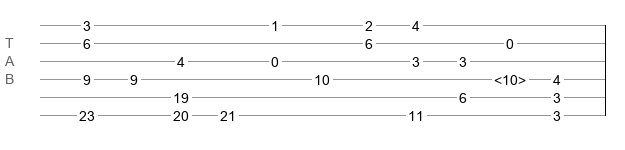0: (271, 54, 279, 64), (506, 36, 514, 46)
1: (271, 18, 279, 28)
10: (314, 72, 330, 82)
11: (408, 108, 424, 118)
19: (173, 90, 189, 100)
2: (365, 18, 373, 28)
20: (173, 108, 189, 118)
21: (220, 108, 236, 118)
23: (79, 108, 95, 118)
3: (83, 18, 91, 28), (412, 54, 420, 64), (459, 54, 467, 64), (553, 108, 561, 118), (553, 90, 561, 100)
4: (177, 54, 185, 64), (412, 18, 420, 28), (553, 72, 561, 82)
6: (83, 36, 91, 46), (365, 36, 373, 46), (459, 90, 467, 100)
9: (83, 72, 91, 82), (130, 72, 138, 82)
harmonic: (494, 72, 526, 82)
